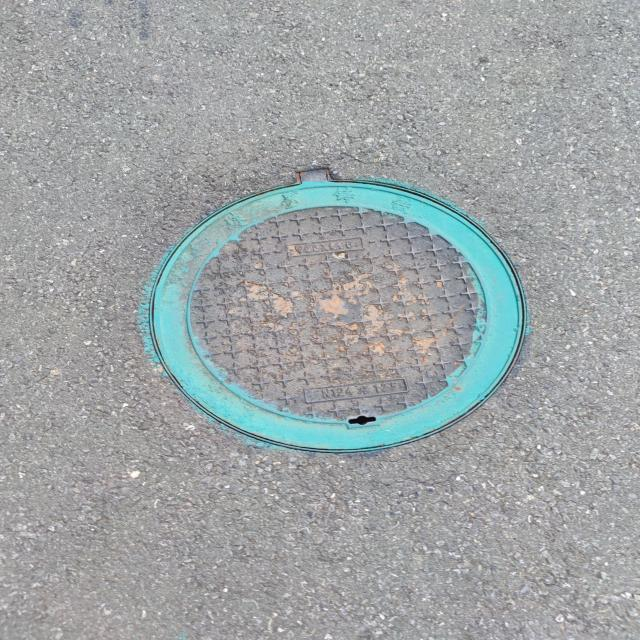Good: (142, 170, 534, 458)
